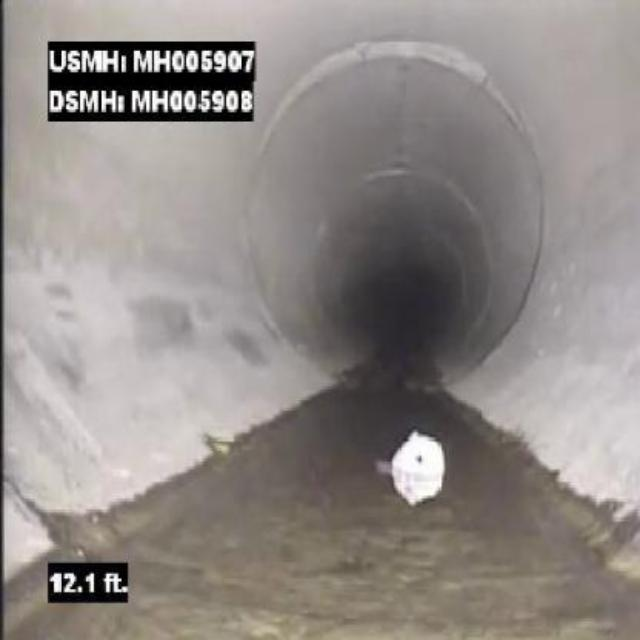Joint offset: (289, 32, 506, 95)
